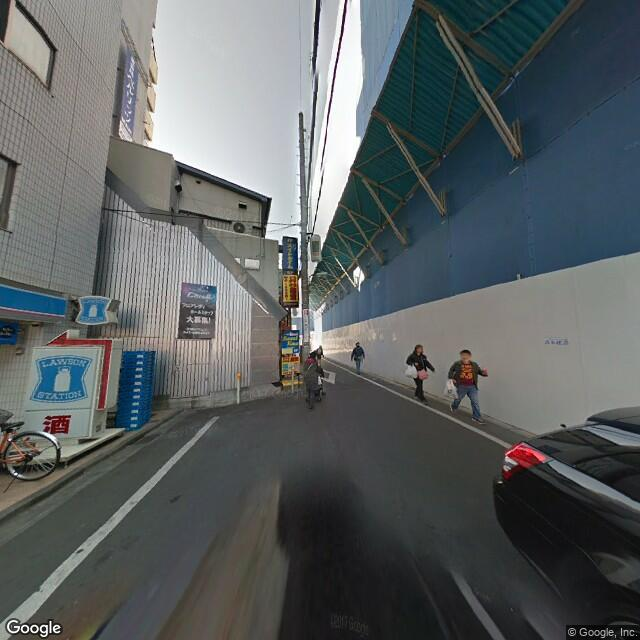lawson: (30, 348, 90, 412), (76, 291, 113, 329)
